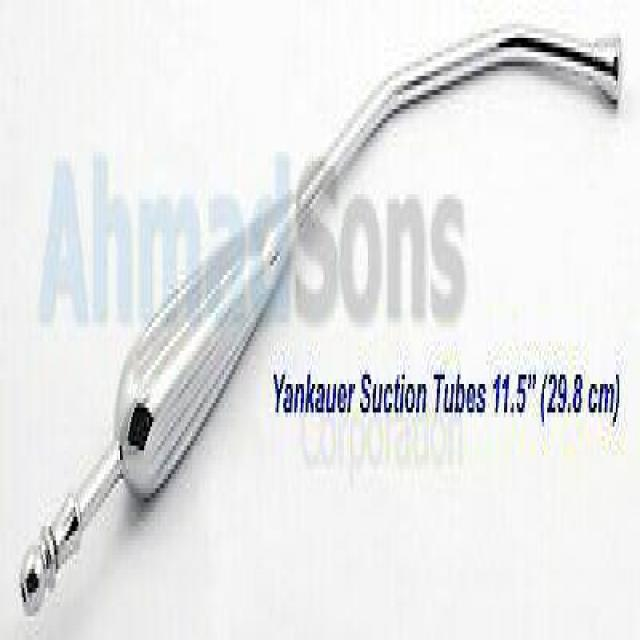Yankauer: (14, 14, 624, 616)
